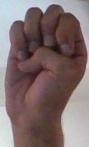E: (0, 1, 89, 121)
